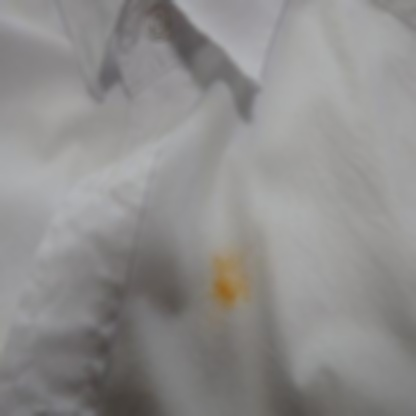kimchi: (201, 254, 261, 308)
